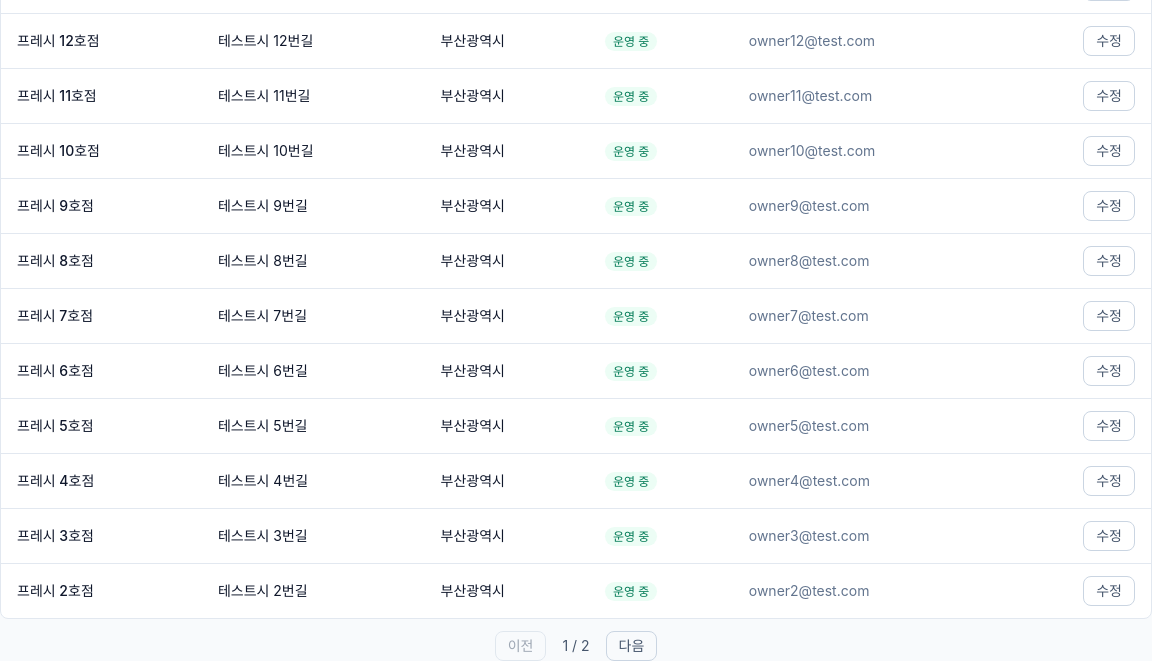
Test: 관리자 점포 목록 (A-02) › 0페이지부터 읽고 [다음]으로 다음 페이지를 읽는다
The image size is (1152, 661).
(page scrolled)
Expected: the text "1 / 2" is shown, x1=562 y1=636 x2=590 y2=656
Expected: the button "이전" is disabled, x1=495 y1=631 x2=546 y2=660
Step 1. Click the button "다음" → (632, 646), box x1=606 y1=631 x2=657 y2=660
(page scrolled)
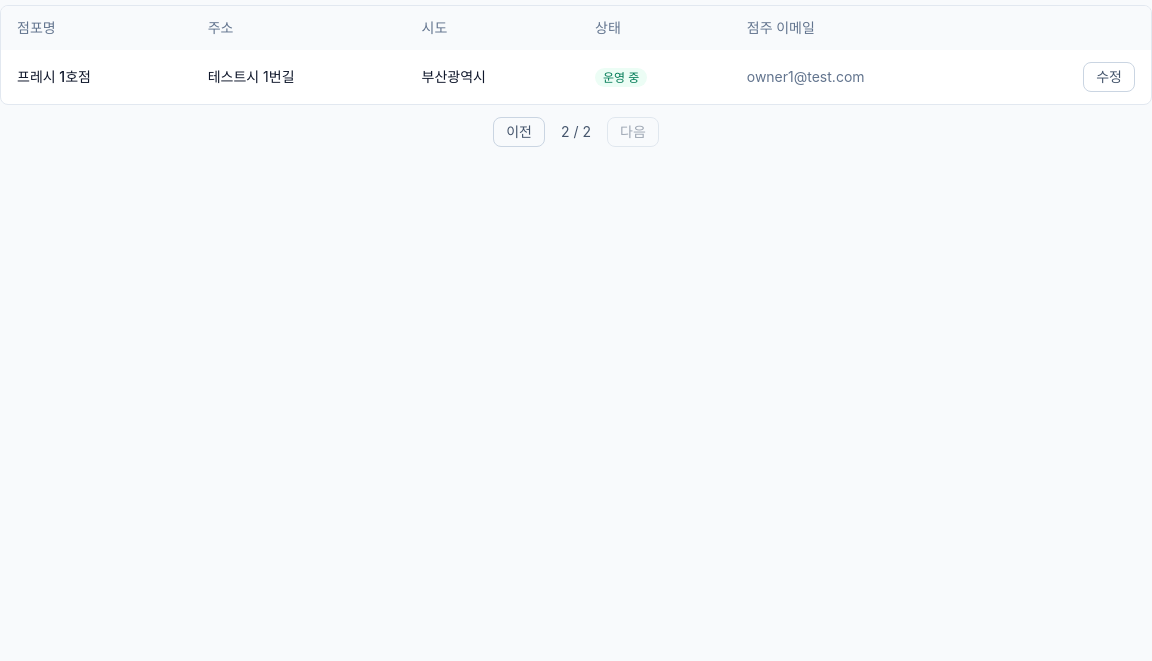
Result: the text "2 / 2" is shown at x1=561 y1=122 x2=591 y2=142
Result: the number of rows is 2 at x1=1 y1=6 x2=1151 y2=50; x1=1 y1=50 x2=1151 y2=104
Result: the text "프레시 1호점" is shown at x1=1 y1=50 x2=192 y2=104
